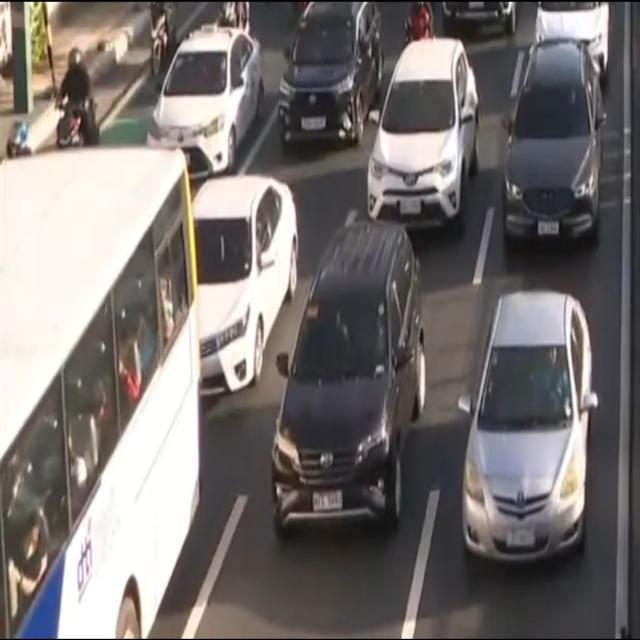Bus: (2, 142, 204, 640)
Motorcycle: (51, 45, 111, 172), (144, 0, 178, 84)
SUV: (268, 214, 431, 546), (501, 36, 606, 260), (365, 35, 482, 231), (276, 0, 386, 151)
Sedan: (455, 283, 602, 573), (188, 170, 300, 402), (147, 22, 266, 178)
